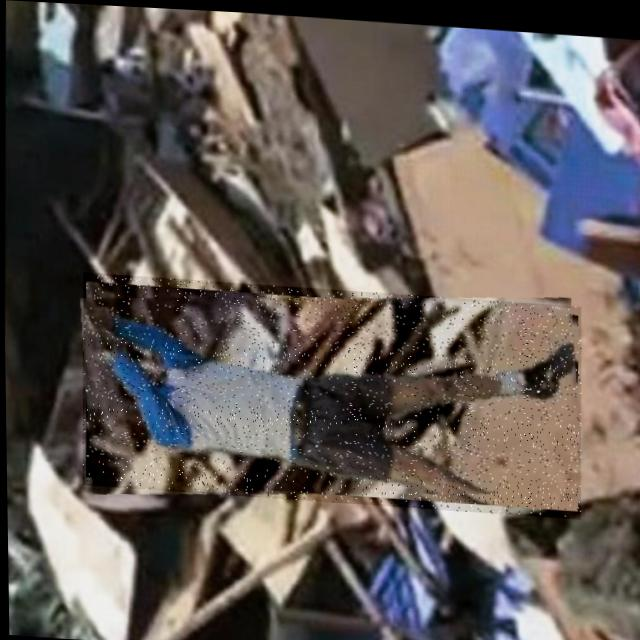Person in Rubble: (78, 270, 583, 512)
